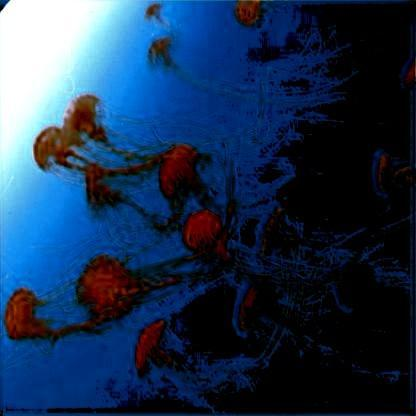Moon: (133, 319, 229, 387), (78, 252, 154, 316), (62, 92, 138, 152), (6, 288, 73, 343), (183, 210, 243, 270), (240, 283, 300, 340), (32, 122, 88, 180), (160, 147, 214, 201), (339, 265, 404, 305), (259, 208, 311, 257), (87, 176, 125, 226), (147, 34, 187, 81), (376, 153, 414, 197), (145, 5, 171, 32), (235, 2, 265, 25), (391, 164, 411, 188), (402, 59, 416, 85)
